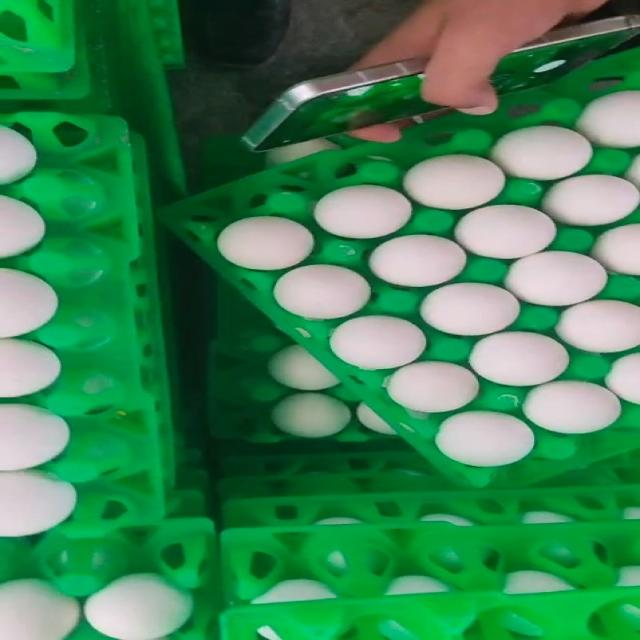egg_tray: (166, 92, 639, 485), (0, 113, 162, 535), (224, 523, 636, 639), (63, 134, 178, 534), (74, 133, 174, 529), (222, 521, 639, 604), (218, 452, 639, 526), (209, 285, 395, 443), (0, 518, 216, 639), (222, 581, 639, 639), (209, 330, 395, 443), (224, 485, 639, 527), (130, 133, 179, 485), (0, 0, 127, 113), (217, 450, 458, 500), (218, 452, 461, 500), (220, 442, 458, 489), (0, 0, 100, 99), (221, 443, 446, 484), (217, 469, 442, 499), (0, 0, 75, 75), (0, 43, 90, 99), (214, 280, 272, 358), (166, 446, 212, 518), (544, 456, 639, 490), (544, 453, 639, 486), (165, 456, 209, 518), (149, 0, 183, 68), (570, 452, 639, 483), (167, 467, 209, 517), (174, 441, 210, 495), (167, 486, 208, 517), (396, 576, 436, 593), (78, 446, 103, 464), (533, 574, 560, 587), (598, 614, 608, 626), (287, 591, 299, 600), (198, 472, 206, 483), (52, 461, 59, 473), (446, 484, 458, 489), (545, 479, 553, 485), (63, 530, 75, 534), (594, 633, 608, 636), (123, 162, 127, 172), (197, 510, 205, 514), (625, 500, 629, 506), (625, 581, 631, 585), (186, 511, 190, 515), (280, 597, 284, 601), (92, 421, 96, 425), (611, 635, 625, 636), (123, 114, 127, 117), (222, 466, 224, 472), (414, 590, 419, 592), (131, 220, 134, 223), (519, 625, 521, 629), (261, 345, 263, 348), (540, 589, 545, 590), (479, 120, 481, 122), (395, 626, 396, 628), (587, 482, 589, 483), (628, 635, 629, 636), (118, 529, 119, 530), (188, 514, 190, 514), (98, 412, 100, 412)
